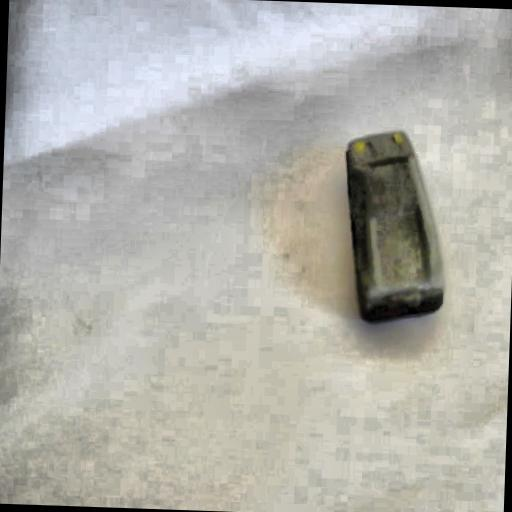normal_car: (335, 126, 452, 329)
